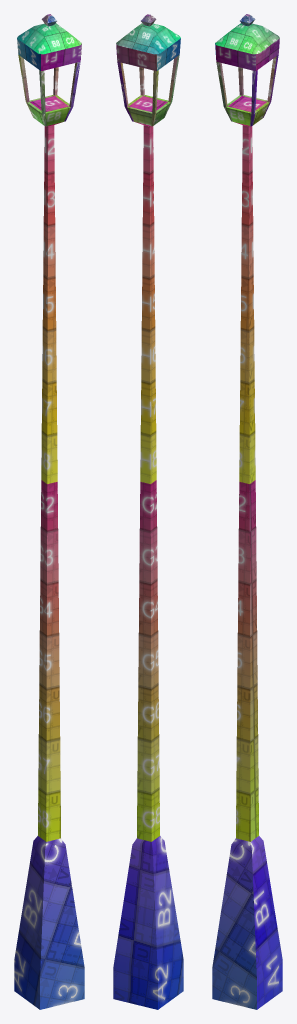
Rendered from lamppost01.fbx.
3 renders of one model, left to right at view 1: azimuth 30°, elevation 25°; view 2: azimuth 150°, elevation 25°; view 3: azimuth 330°, elevation 25°, orthographic.
Parts seen in each view (by area): view 1: default; view 2: default; view 3: default.
Boxes of the visible parts, x1,y1,x2,y2 form: default: [14, 14, 84, 1009]; default: [113, 14, 183, 1009]; default: [212, 14, 282, 1009].
Bounding box in the file's own units: 14.75 × 309 × 14.75.
Materials: 1 (1 with a texture image).
